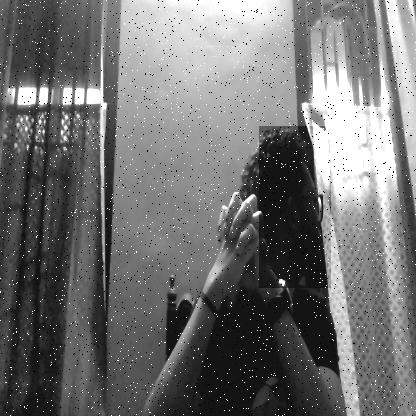Distracted: (259, 126, 331, 288)
